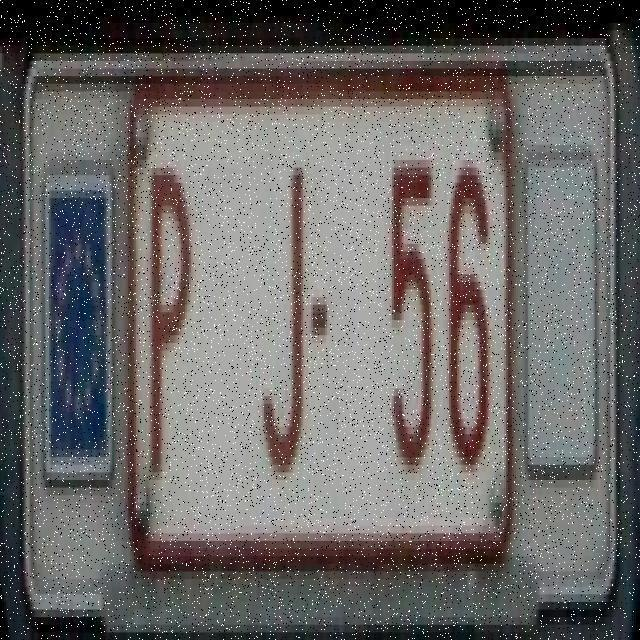LicensePlate: (7, 19, 631, 638)
